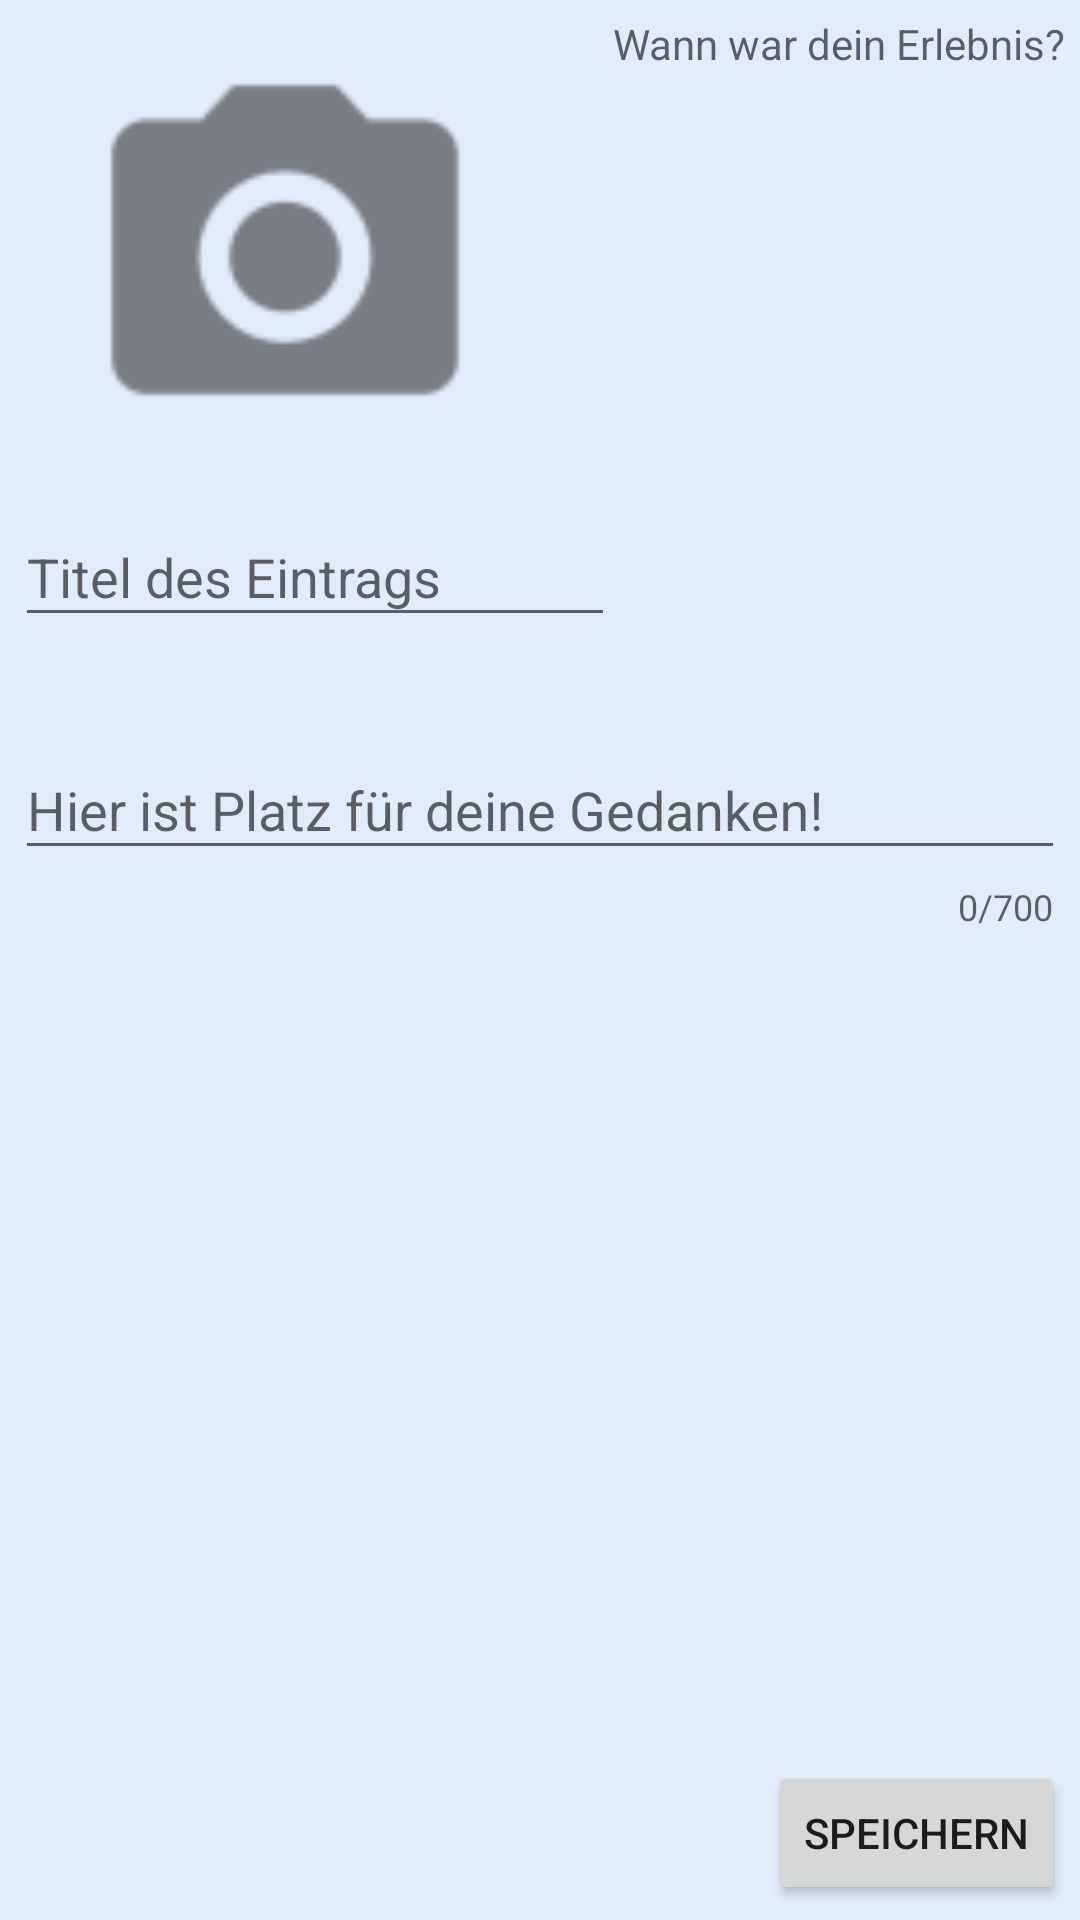

Locate icon controls on the screen. Image size 1080 × 1920, boxes as {"left": x1, "top": y1, "right": x2, "bottom": y2}.
Kamera: {"left": 110, "top": 84, "right": 460, "bottom": 396}
